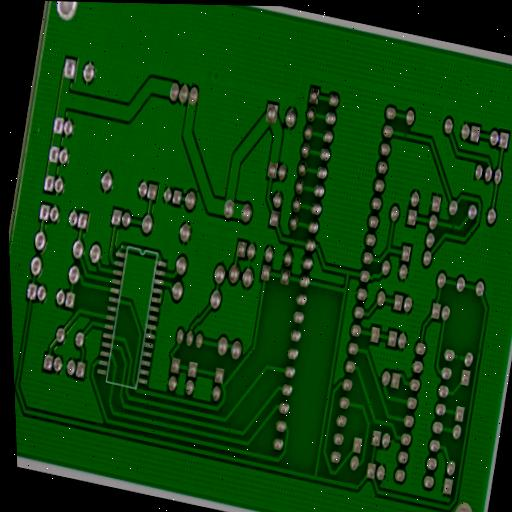open_circuit: (400, 128, 410, 142), (455, 351, 463, 364), (449, 220, 457, 231)
